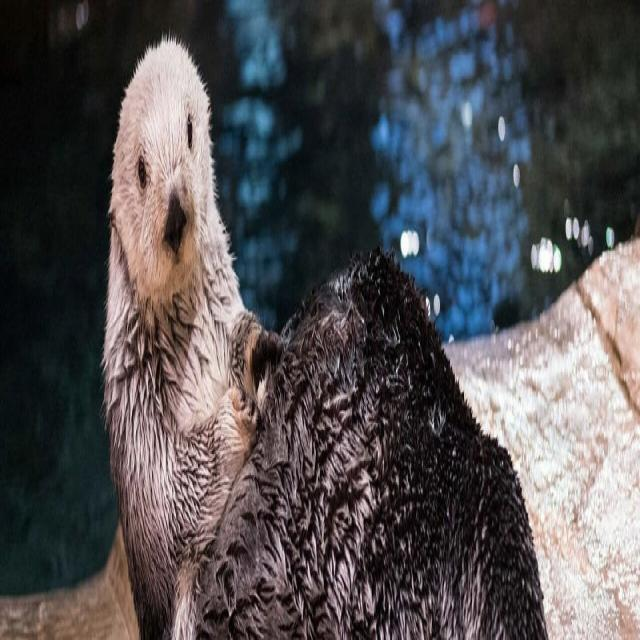otter: (102, 38, 547, 639)
